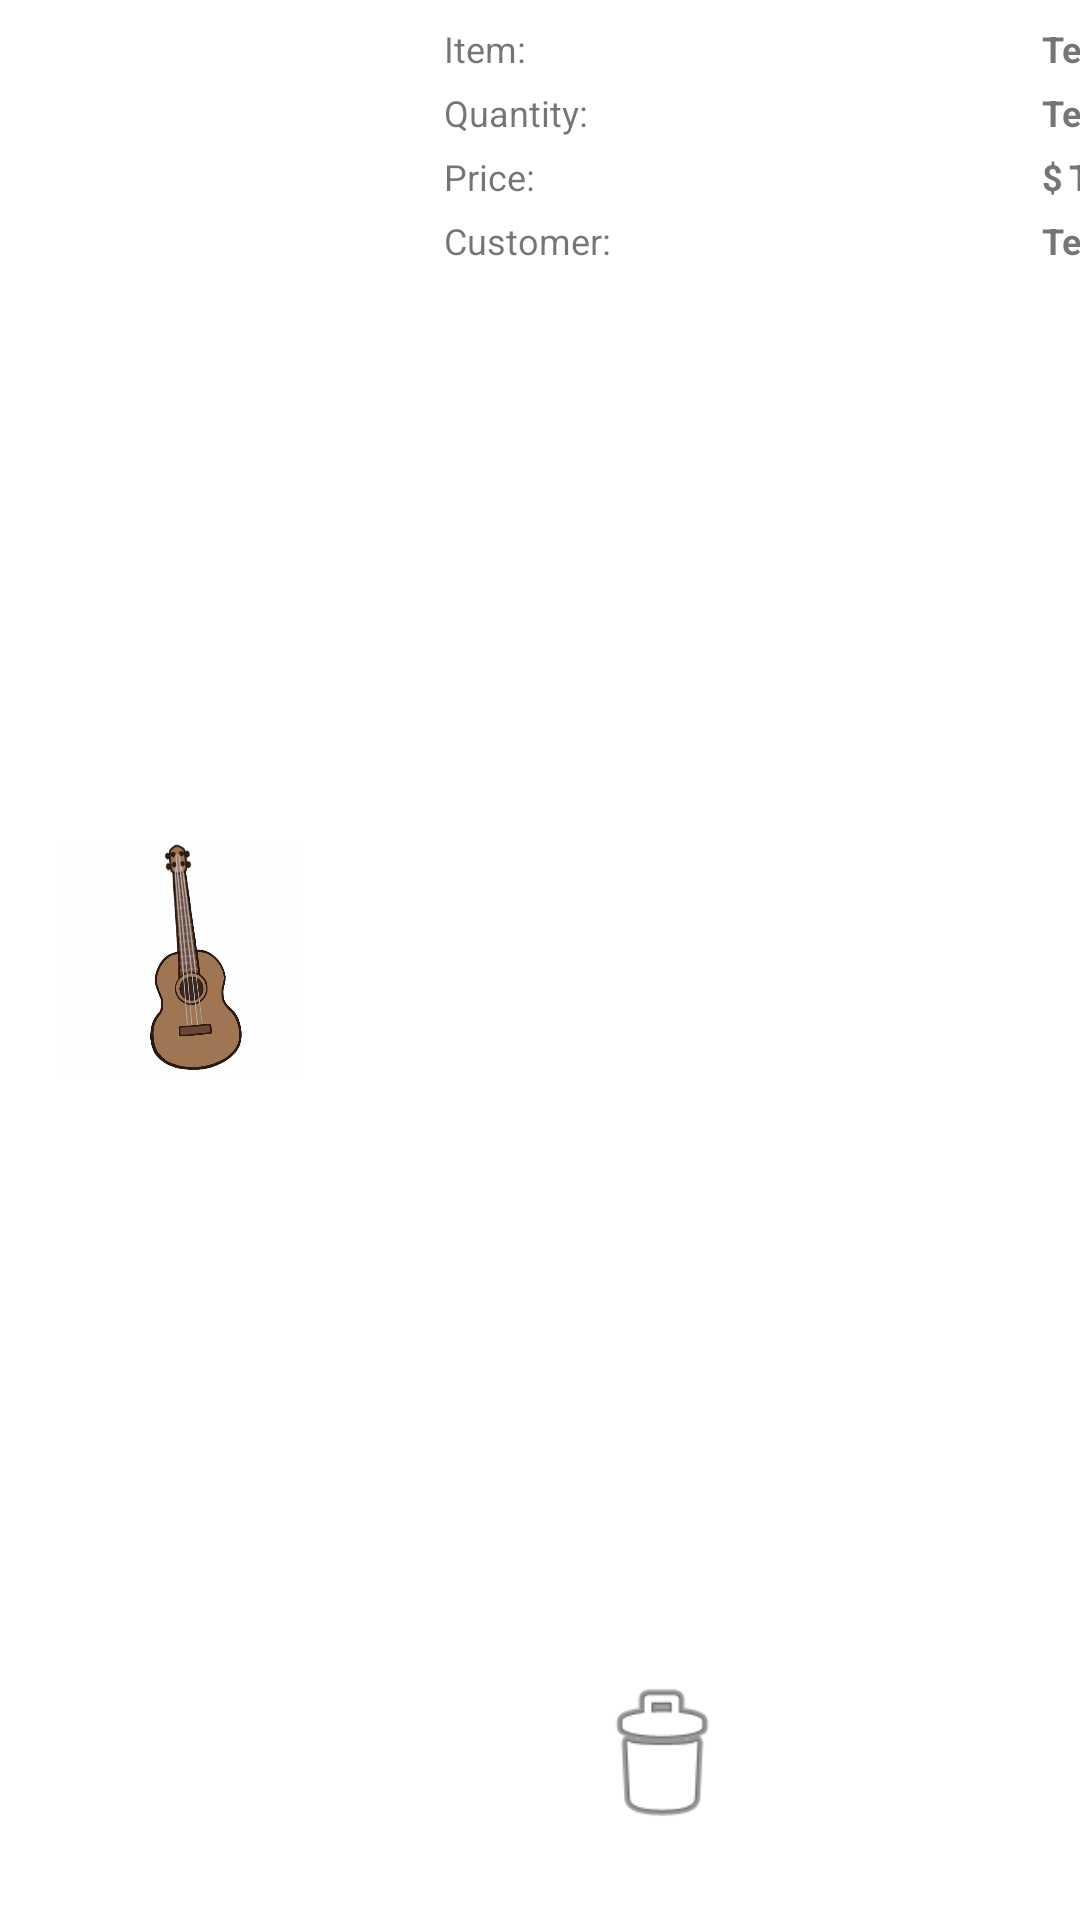

Named icons in this screenshot (1080w x 1920h) and their centers, (x,y):
delete: (662,1752)
guitar: (196,957)
